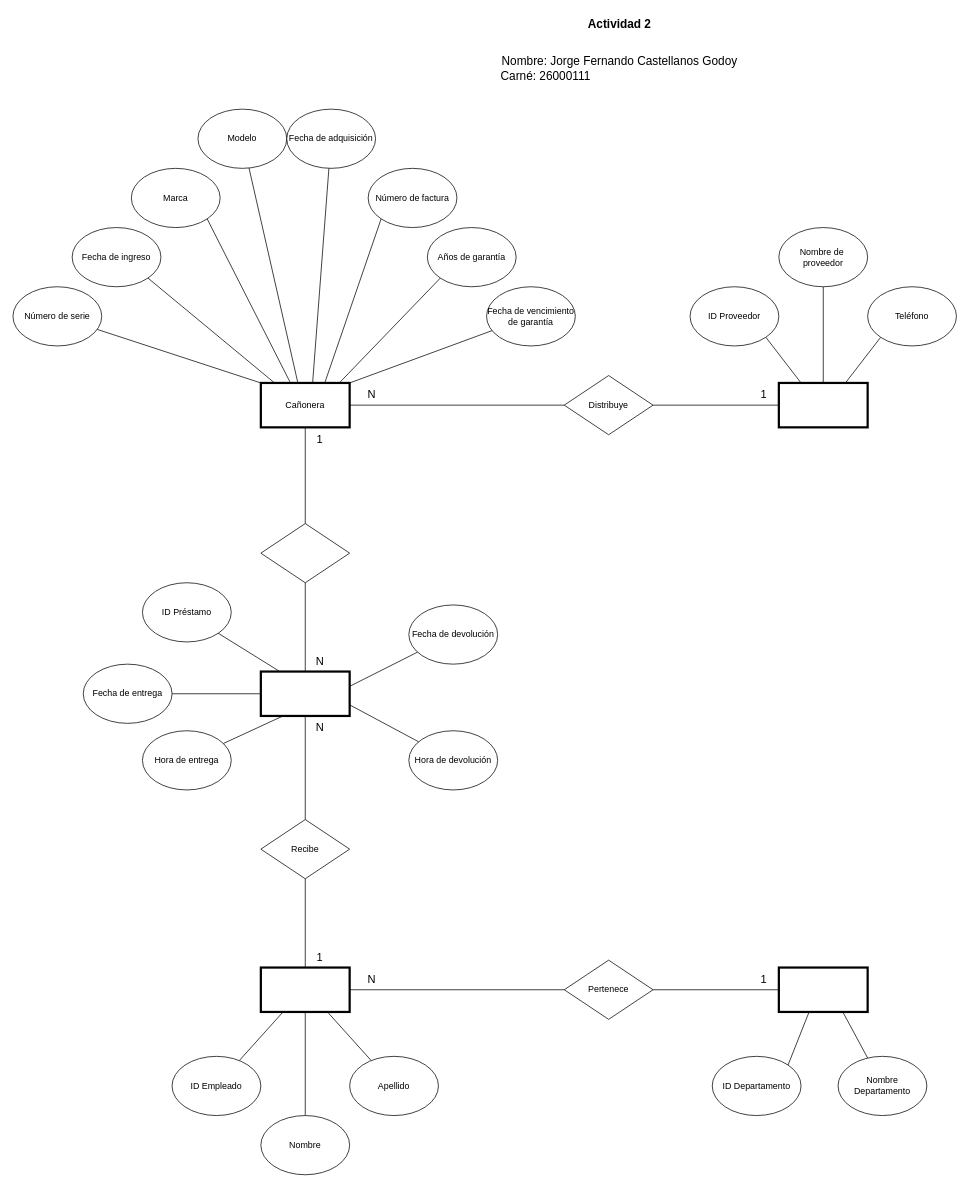
Image size: 969x1188. Some labels were removed from this diagram. Here are the shapes that lost their labels. From the top down, the box of each, then its label:
(777, 381, 868, 428): Proveedor
(260, 523, 350, 583): Se presta
(259, 670, 350, 717): Préstamo
(259, 966, 350, 1013): Empleado
(777, 966, 868, 1013): Departamento
